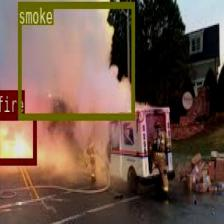fire: (0, 113, 36, 164)
smoke: (18, 2, 134, 119)
